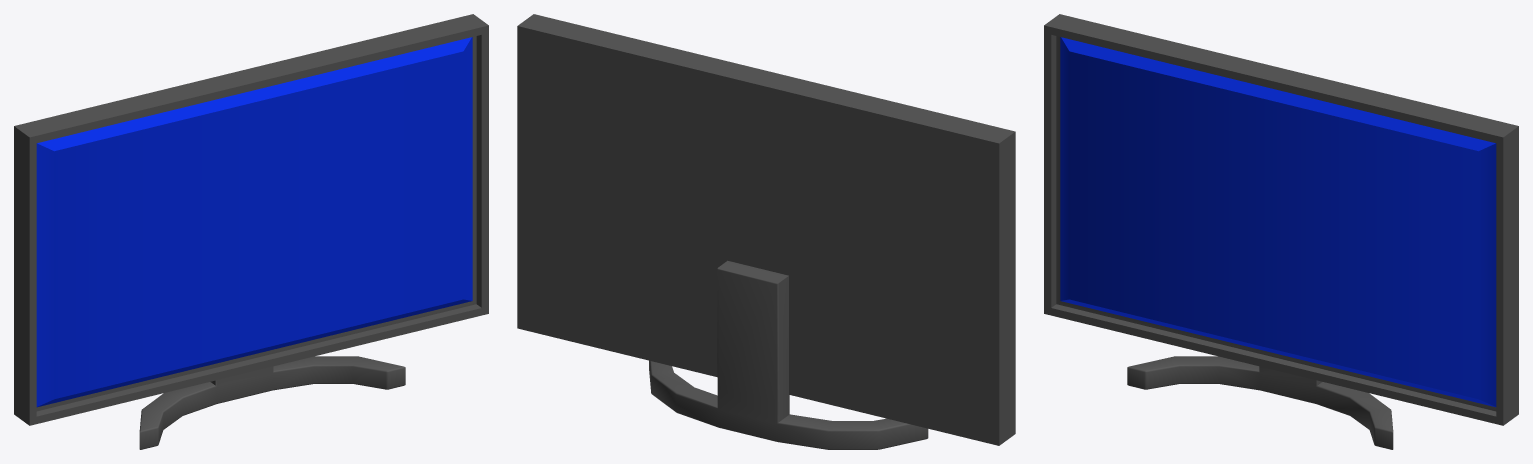
The picture shows the model from 3 angles, left to right: view 1: azimuth 30°, elevation 25°; view 2: azimuth 150°, elevation 25°; view 3: azimuth 330°, elevation 25°; orthographic projection. The views are drawn at different scales.
Visible parts, largest first — view 1: TV; view 2: TV; view 3: TV.
Part boxes in pixels (x1,y1,x2,y2): TV: (14, 14, 488, 449); TV: (517, 14, 1015, 449); TV: (1044, 14, 1518, 449).
Bounding box in the file's own units: 250 × 170 × 37.24.
